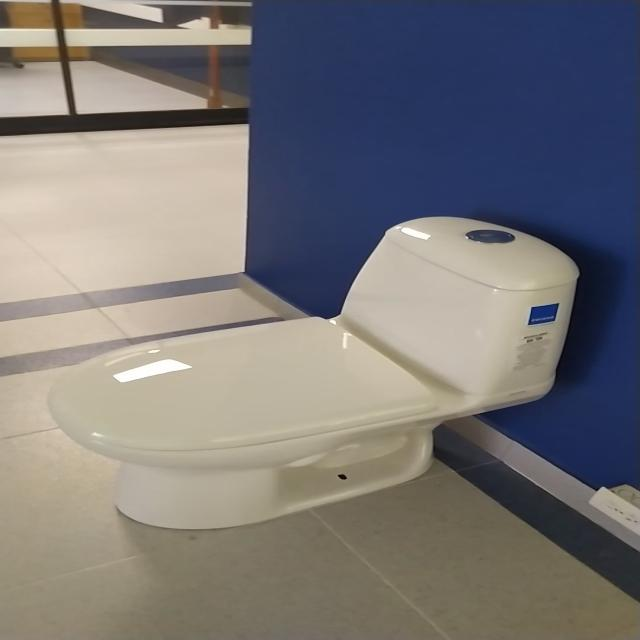toilet: (46, 215, 580, 530)
